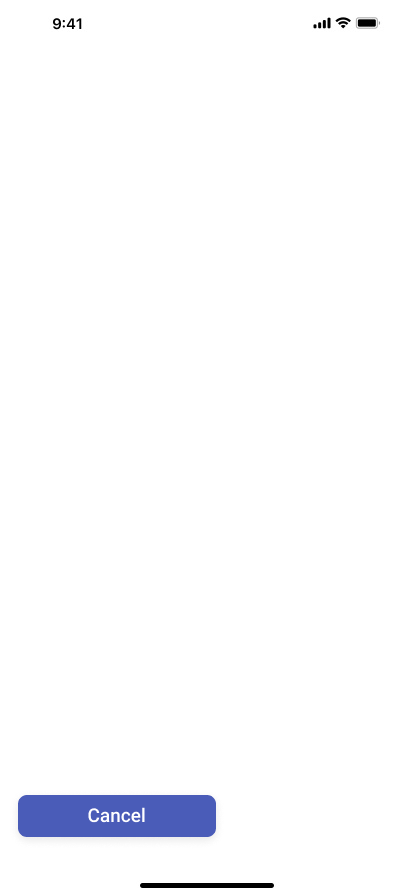Buttons: (8, 788, 226, 850)
Home Indicator: (0, 862, 414, 896)
Status Bar: (0, 0, 414, 44)
